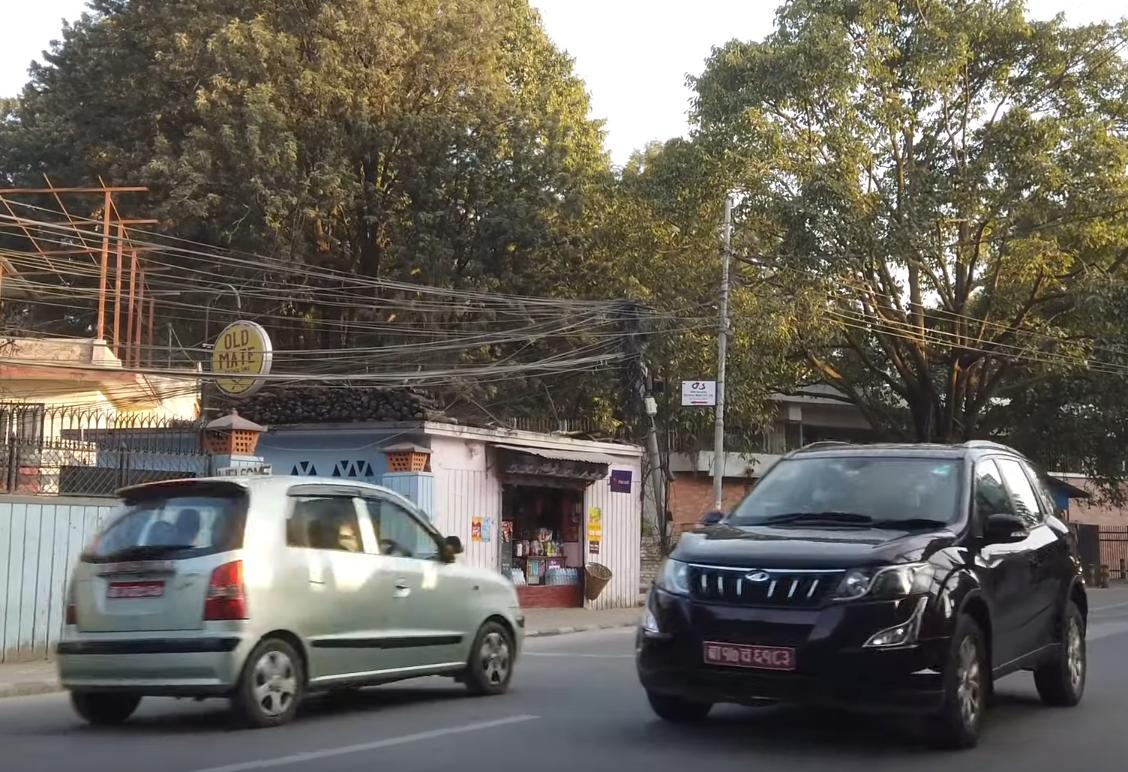car: (630, 432, 1094, 734), (44, 484, 520, 738)
